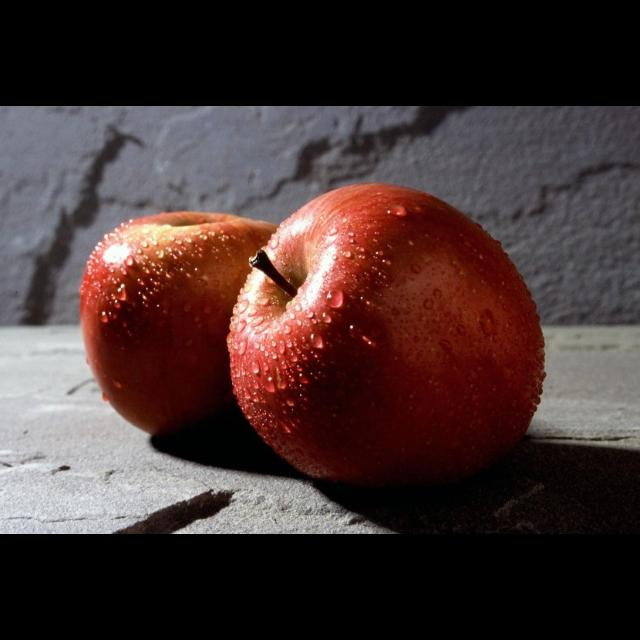Apel Segar: (246, 162, 562, 528), (89, 182, 278, 488)
